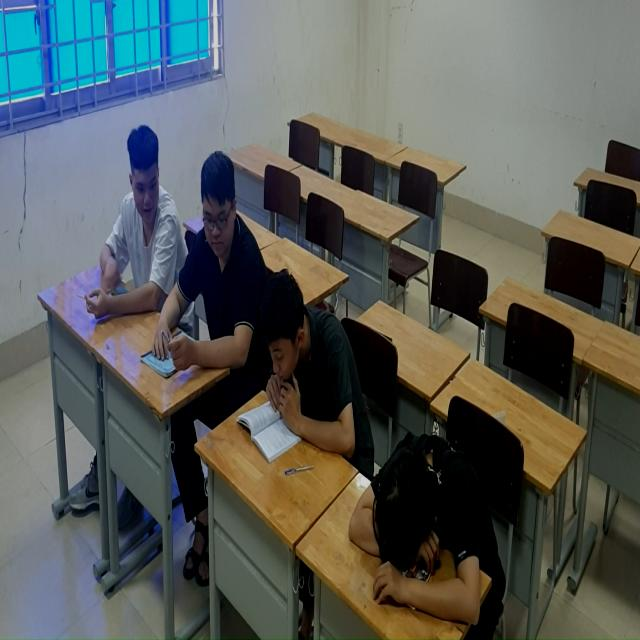read: (139, 144, 271, 390), (234, 266, 374, 474), (78, 119, 181, 339)
sleep: (348, 427, 520, 640)
